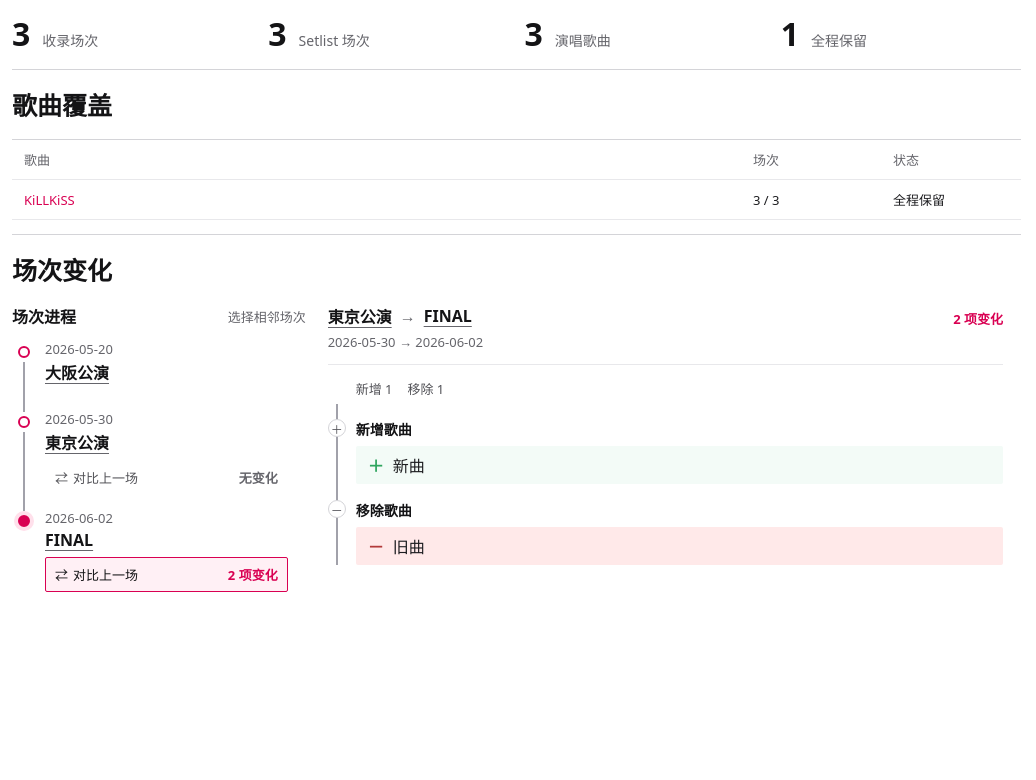
Test: TourStatisticsPanel › 切换相邻场次歌单变化
The image size is (1036, 780).
Expected: the element named "歌单变化" shows "新增歌曲", [356,420,412,439]
Click the button "⇄ 对比上一场 无变化" at {"x": 166, "y": 478}, box [45,460,288,495]
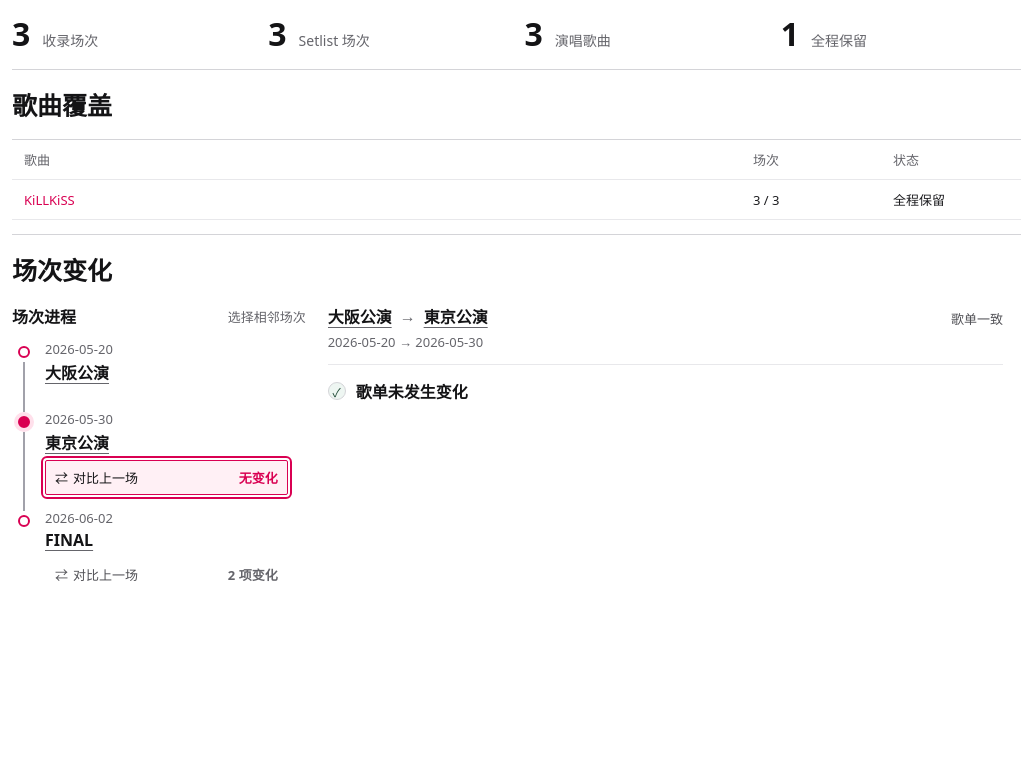
Expected: the element named "歌单变化" shows "歌单未发生变化", [356,381,468,403]
